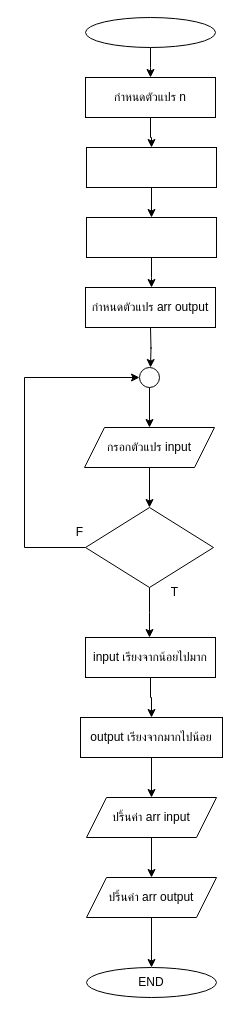
Image size: 240x1015. Some labels were removed from this diagram. Here are the shapes that lost their labels. From the top down, the box of each, then its label:
(84, 16, 216, 48): Start
(86, 146, 216, 188): กำหนดตัวแปร swap
(86, 216, 216, 258): กำหนดตัวแปร arr input
(84, 506, 214, 588): กรอก -1 หรือไม่
